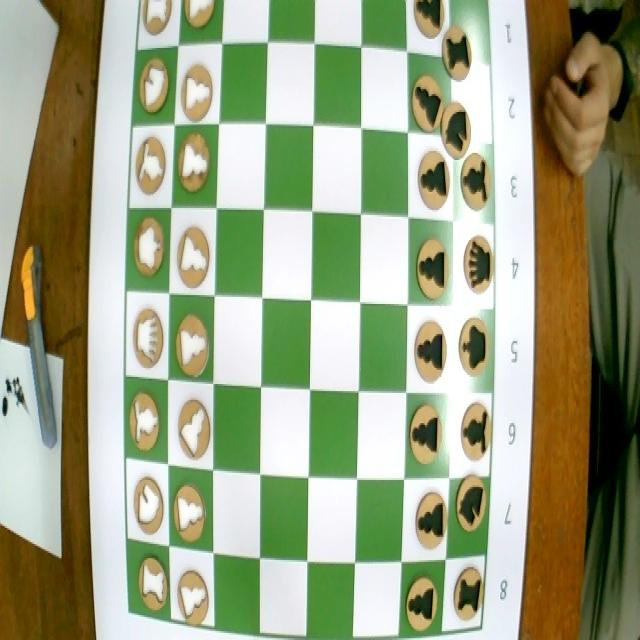chess-pieces: (173, 306, 213, 382), (175, 393, 212, 463), (416, 145, 454, 212), (172, 475, 206, 549), (134, 55, 173, 119), (457, 400, 496, 464), (404, 572, 441, 639), (178, 61, 216, 126), (409, 68, 447, 133), (132, 469, 167, 538), (131, 304, 166, 372), (131, 213, 166, 280), (175, 224, 211, 289), (133, 130, 168, 195), (413, 318, 448, 383), (126, 388, 162, 451), (409, 402, 444, 466), (416, 237, 450, 302), (438, 29, 476, 87), (457, 154, 494, 213), (448, 564, 484, 623), (177, 134, 211, 196), (453, 470, 487, 532), (463, 231, 495, 296), (415, 488, 448, 550), (440, 99, 472, 160), (177, 568, 210, 627), (138, 554, 170, 614), (458, 316, 489, 376), (412, 0, 445, 46), (139, 0, 173, 37), (184, 0, 216, 37)
